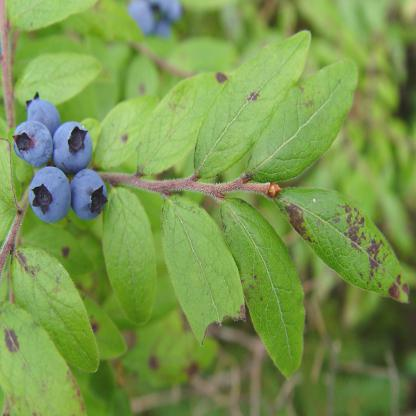blueberry leaf: (187, 17, 318, 182), (218, 196, 312, 390), (275, 184, 413, 316), (14, 245, 112, 415), (246, 62, 376, 190), (154, 191, 246, 354), (134, 71, 235, 176), (98, 185, 157, 339)
